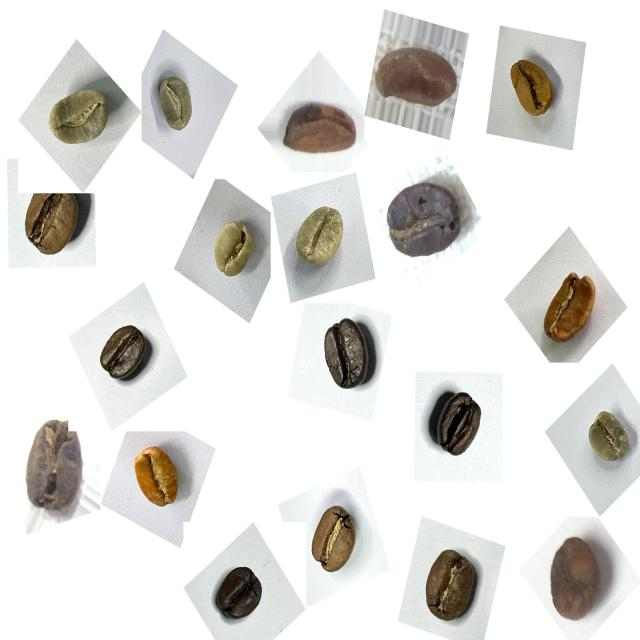bad: (376, 167, 470, 271), (14, 410, 95, 526), (538, 525, 618, 633), (369, 29, 462, 121), (276, 85, 360, 170)
dark: (310, 308, 385, 404), (420, 380, 492, 468), (88, 314, 155, 393), (210, 554, 275, 632)
green: (38, 75, 118, 161), (285, 195, 356, 282), (204, 212, 266, 293), (578, 404, 638, 477), (150, 68, 206, 145)
light: (124, 434, 191, 517), (502, 48, 568, 128)
medium: (415, 540, 488, 636), (13, 190, 88, 270), (299, 495, 366, 584)
